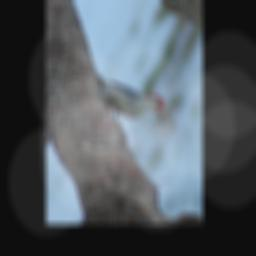Woodpecker: (93, 73, 167, 127)
